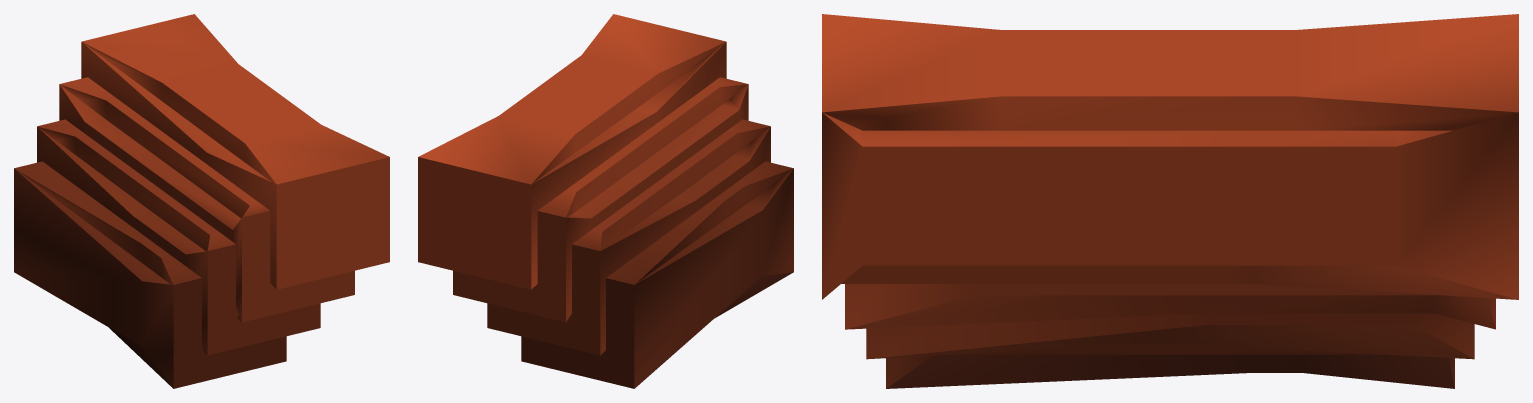
Rendered from M_EscalonesCaminito_01.fbx.
The picture shows the model from 3 angles, left to right: view 1: azimuth 30°, elevation 25°; view 2: azimuth 150°, elevation 25°; view 3: azimuth 270°, elevation 25°; orthographic projection. The views are drawn at different scales.
Visible parts, largest first — view 1: normal11; view 2: normal11; view 3: normal11.
Part boxes in pixels (<box>): normal11: <box>14,14,389,388</box>; normal11: <box>418,14,793,388</box>; normal11: <box>822,14,1518,388</box>.
Bounding box in the file's own units: 1.08 × 1.02 × 1.84.
